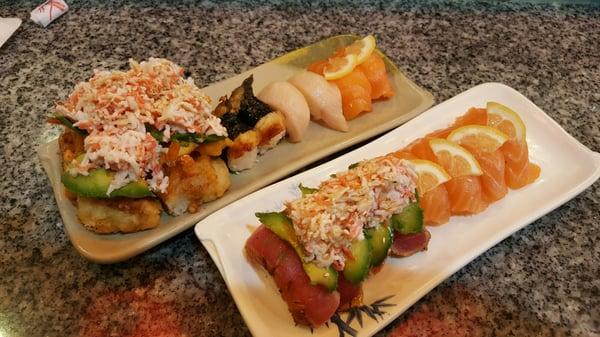soup: (52, 57, 233, 233)
